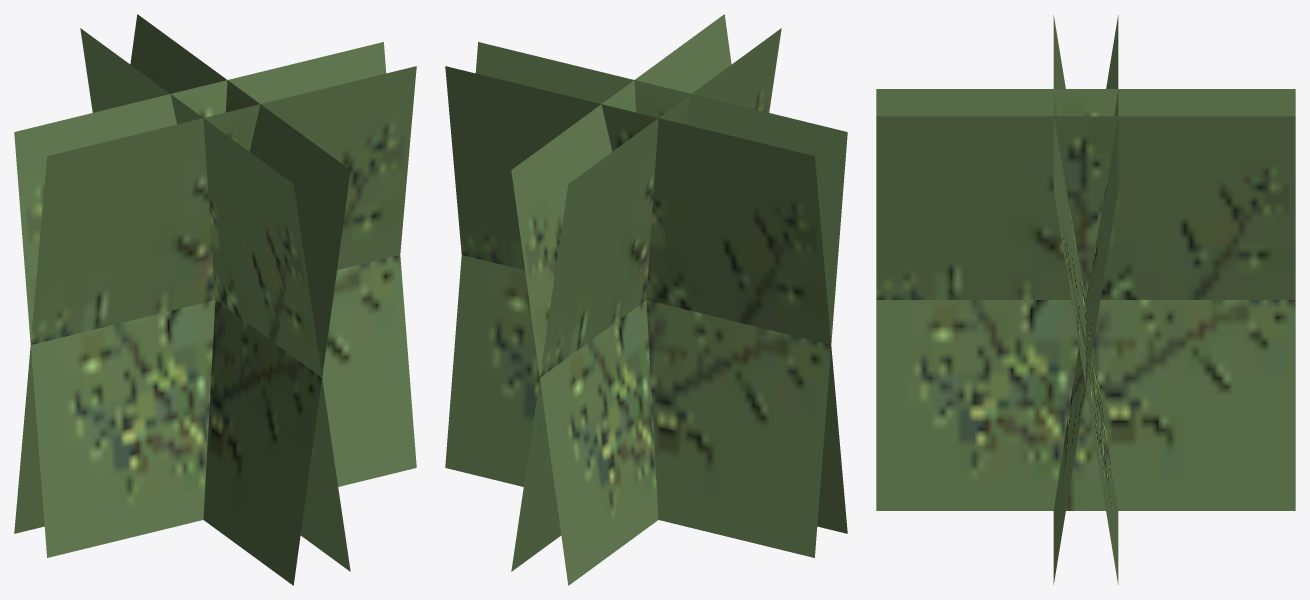
File: wrld_plant_highland_7.glb
3 views of the same model, side by side, from view 1: azimuth 30°, elevation 25°; view 2: azimuth 150°, elevation 25°; view 3: azimuth 270°, elevation 25° (orthographic).
Parts seen in each view (by area): view 1: wrld_plant_highland_7; view 2: wrld_plant_highland_7; view 3: wrld_plant_highland_7.
Part boxes in pixels (left/top/right/bottom): wrld_plant_highland_7: left=14, top=14, right=416, bottom=585; wrld_plant_highland_7: left=445, top=14, right=847, bottom=585; wrld_plant_highland_7: left=876, top=15, right=1295, bottom=584.
Bounding box in the file's own units: 3.44 × 3.58 × 3.44.
1 material, 1 textured.
